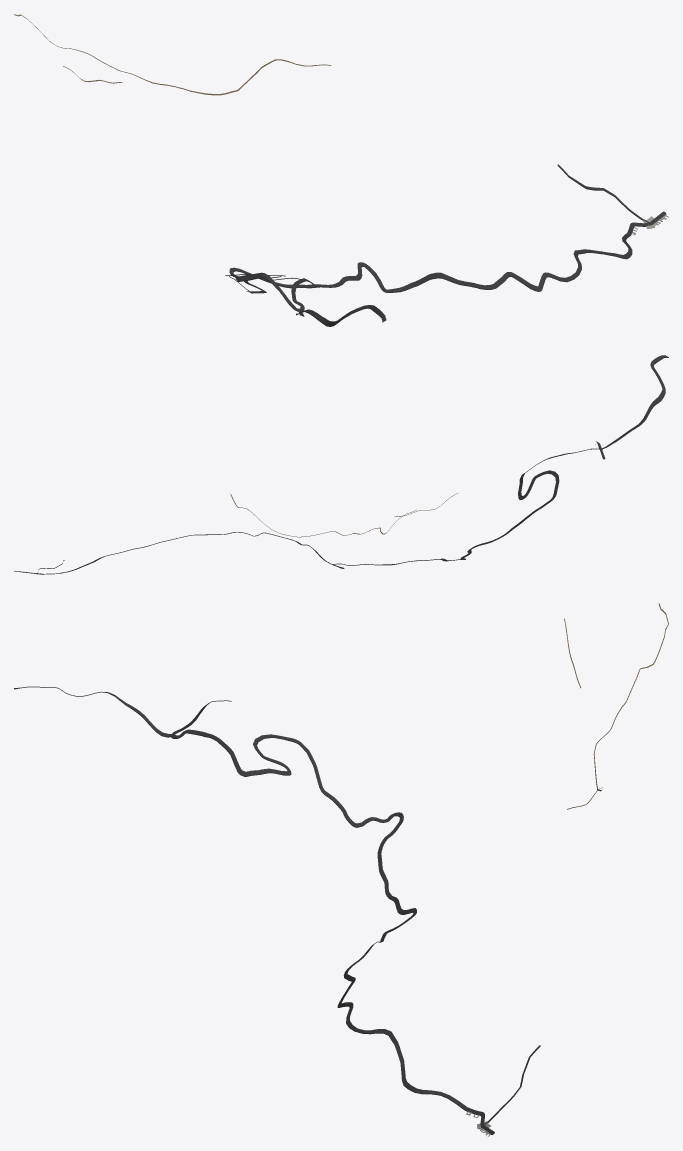
The picture shows the model from 3 angles, top to bottom: view 1: azimuth 30°, elevation 25°; view 2: azimuth 150°, elevation 25°; view 3: azimuth 270°, elevation 25°; orthographic projection. The views are drawn at different scales.
Size of the model in its own units: 1018 by 478 by 1056.
